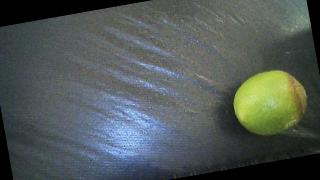DESECHO: (230, 66, 313, 141)
